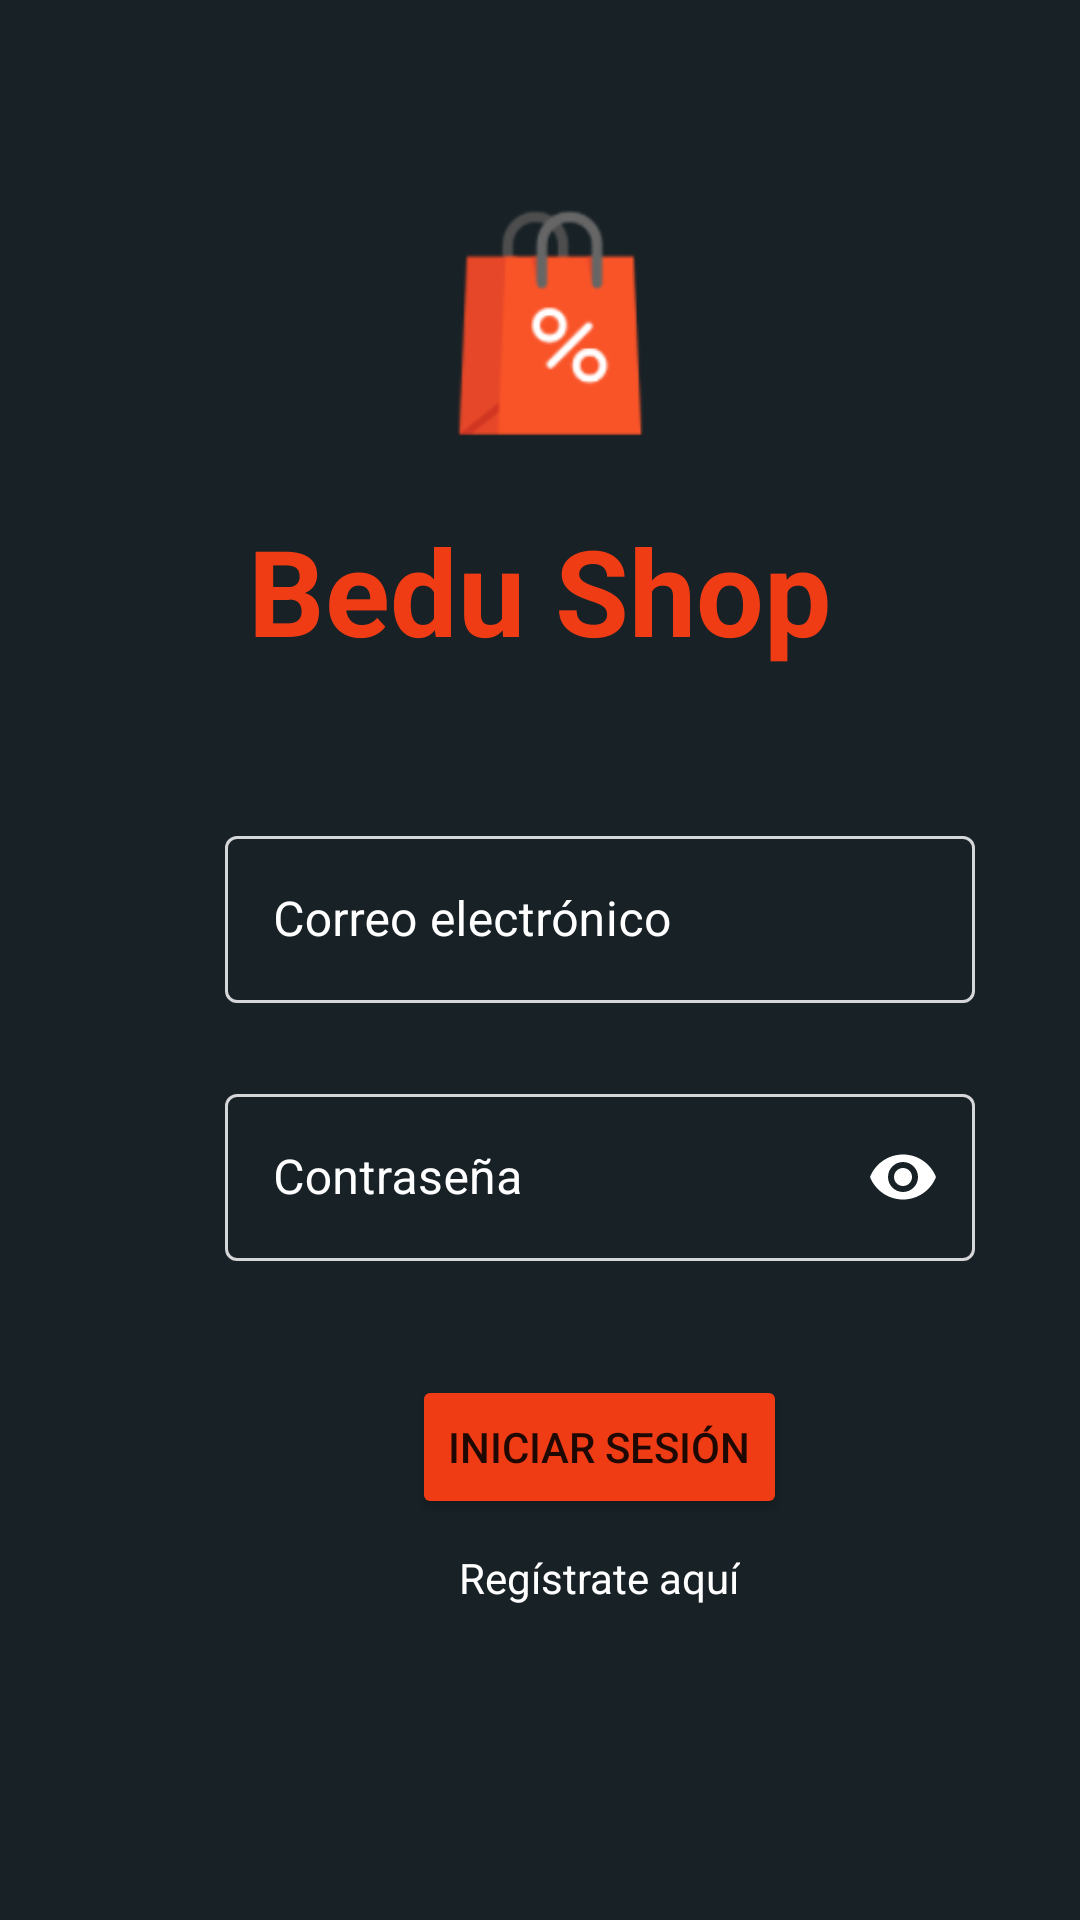

Named icons in this screenshot (1080px x 1920px) and their bounding boxes, bbox=[x1, y1, x2, y2]:
bag: bbox=[458, 211, 643, 436]
